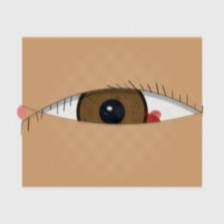hemorrhage_spot: (105, 95, 169, 147)
